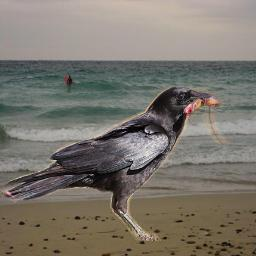Crow: (0, 81, 238, 241)
